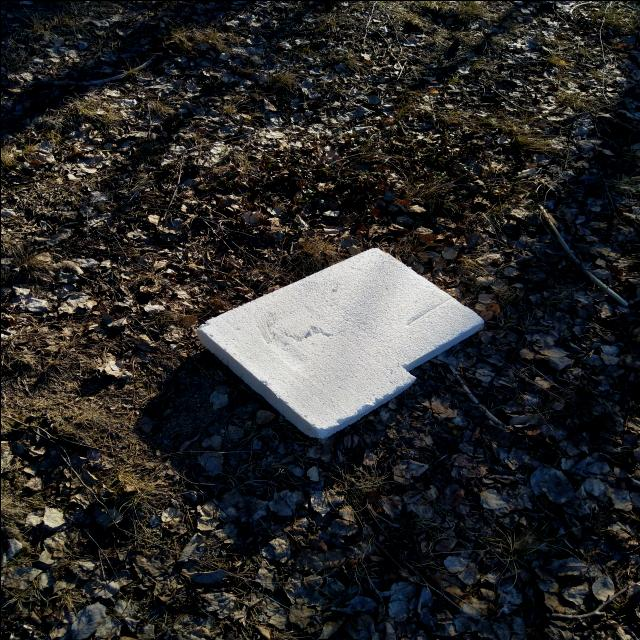Styrofoam piece: (196, 247, 483, 438)
